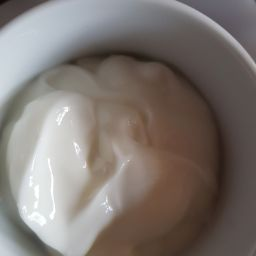Yogurt: (2, 64, 226, 256), (28, 81, 210, 233)
